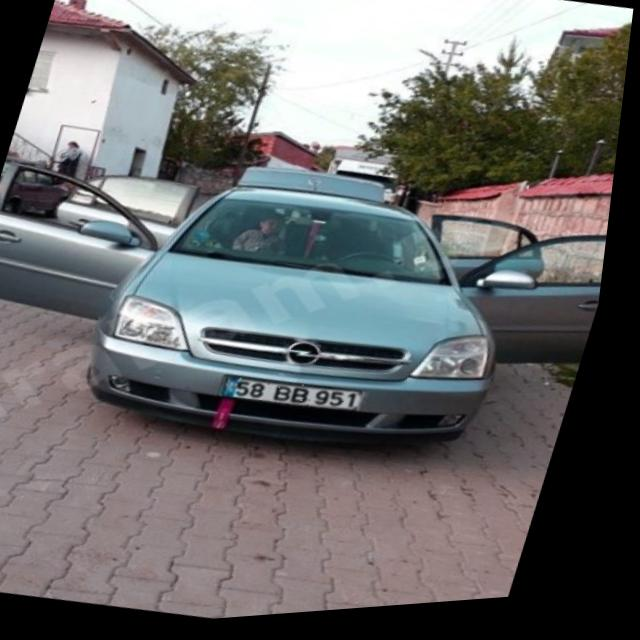license_plate: (228, 370, 376, 427)
